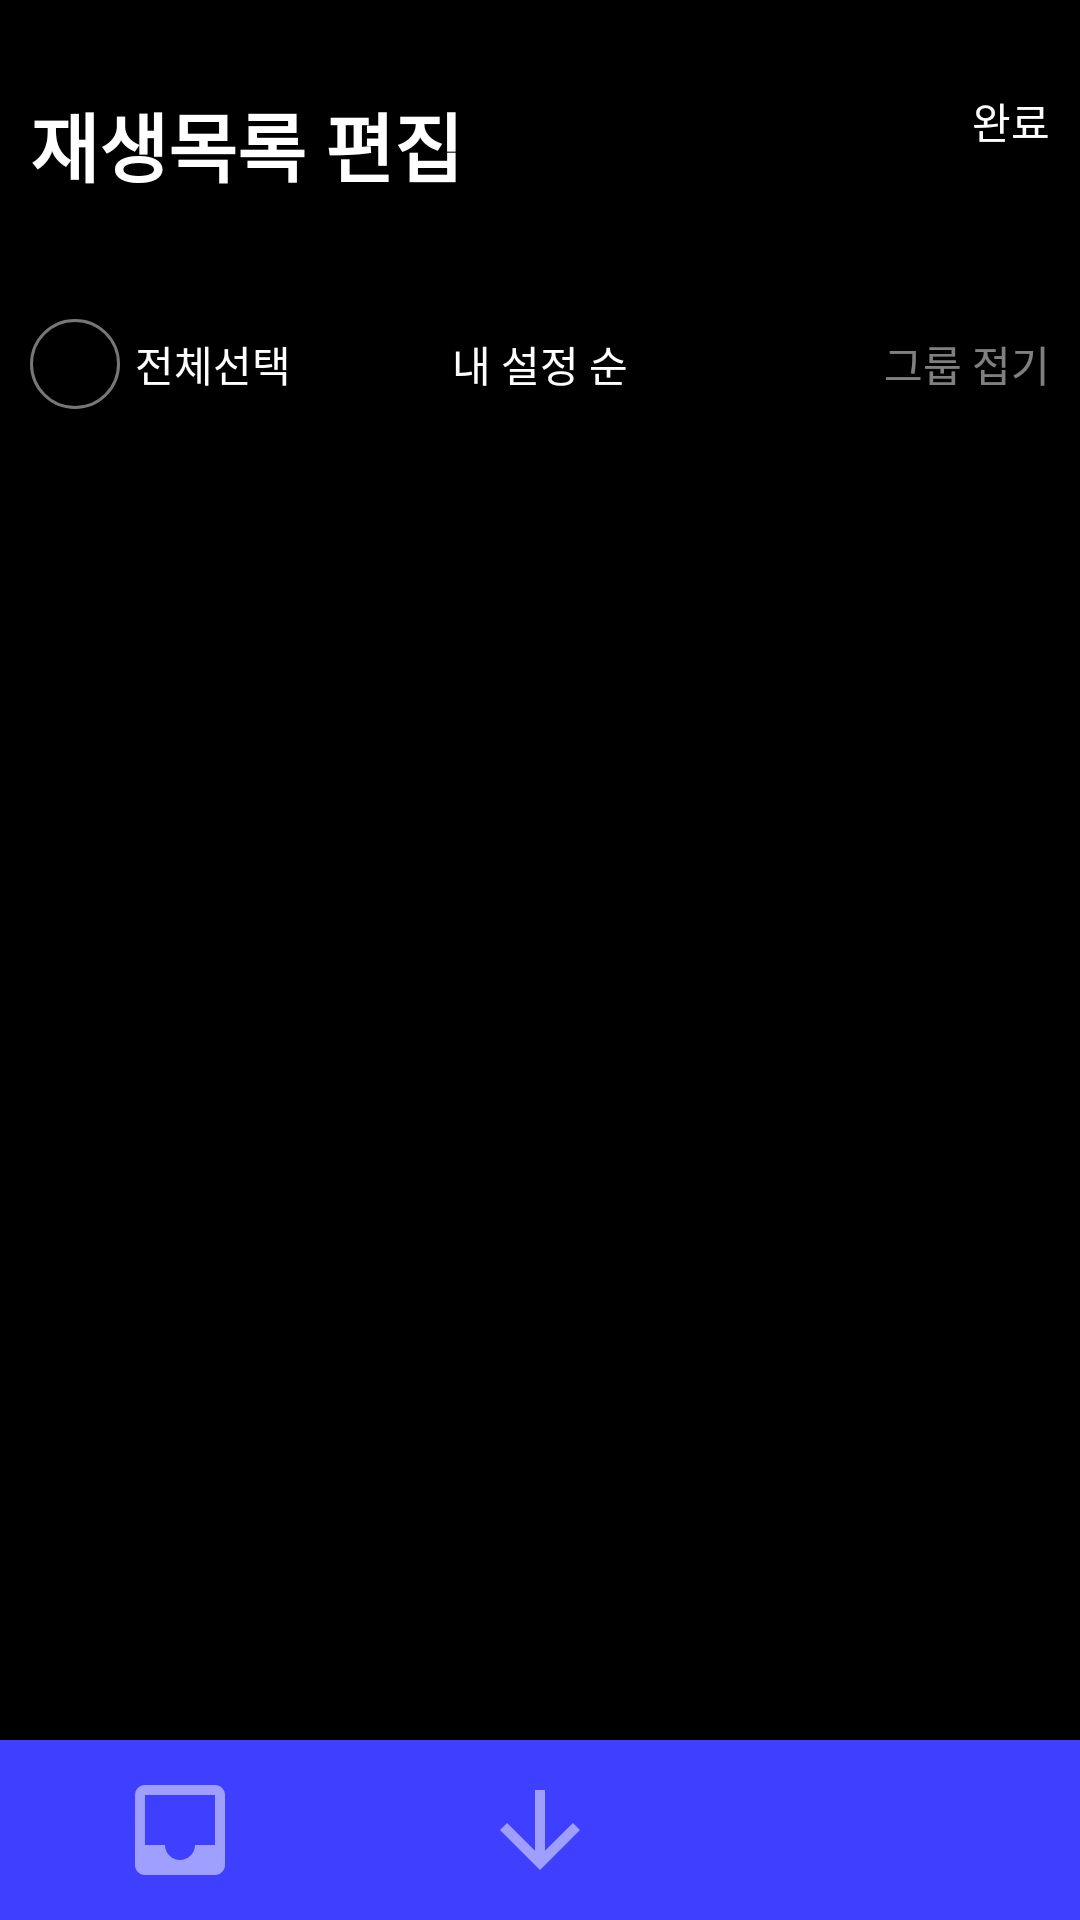

Named icons in this screenshot (1080 × 1920) and their bounding boxes, bbox=(x1, y1, x2, y2):
arrow downward: bbox=(500, 1790, 580, 1870)
custom checkbox: bbox=(30, 319, 120, 409)
inbox: bbox=(135, 1785, 225, 1875)
